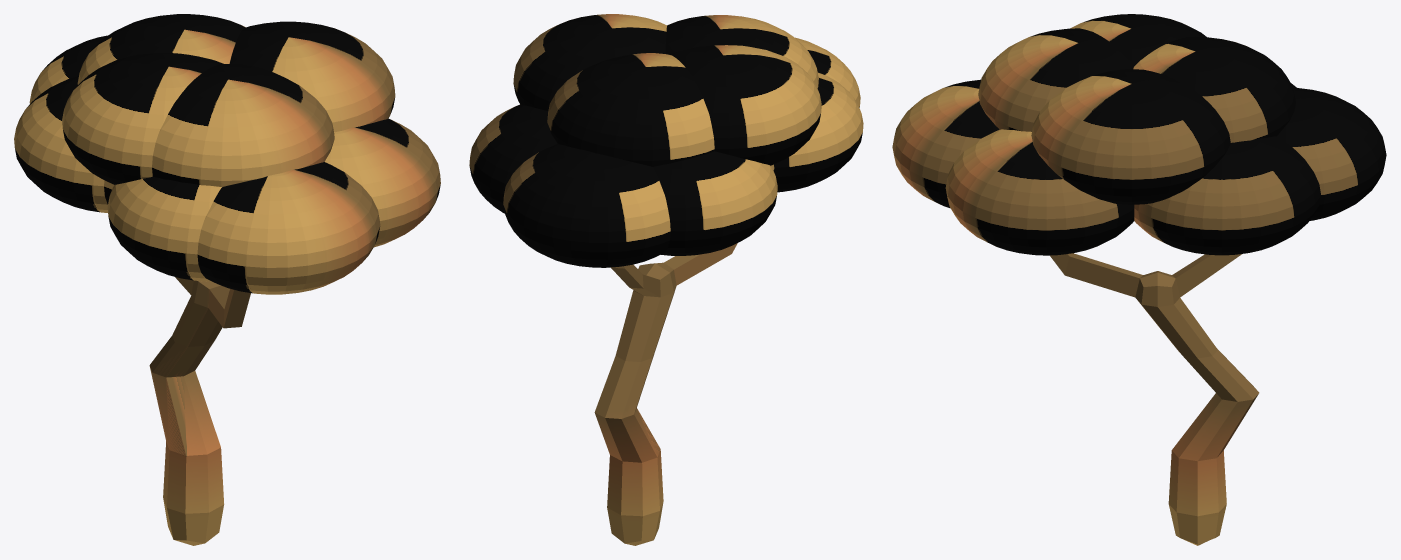
File: Arbol1.fbx
3 views of the same model, side by side, from view 1: azimuth 30°, elevation 25°; view 2: azimuth 150°, elevation 25°; view 3: azimuth 270°, elevation 25° (orthographic). The views are drawn at different scales.
Visible parts, largest first — view 1: Cube.006; view 2: Cube.006; view 3: Cube.006.
Part boxes in pixels (x1,y1,x2,y2): Cube.006: (14, 14, 440, 545); Cube.006: (469, 14, 863, 545); Cube.006: (892, 14, 1386, 545).
Bounding box in the file's own units: 665 × 1080 × 988.
Materials: 2 (2 with a texture image).
